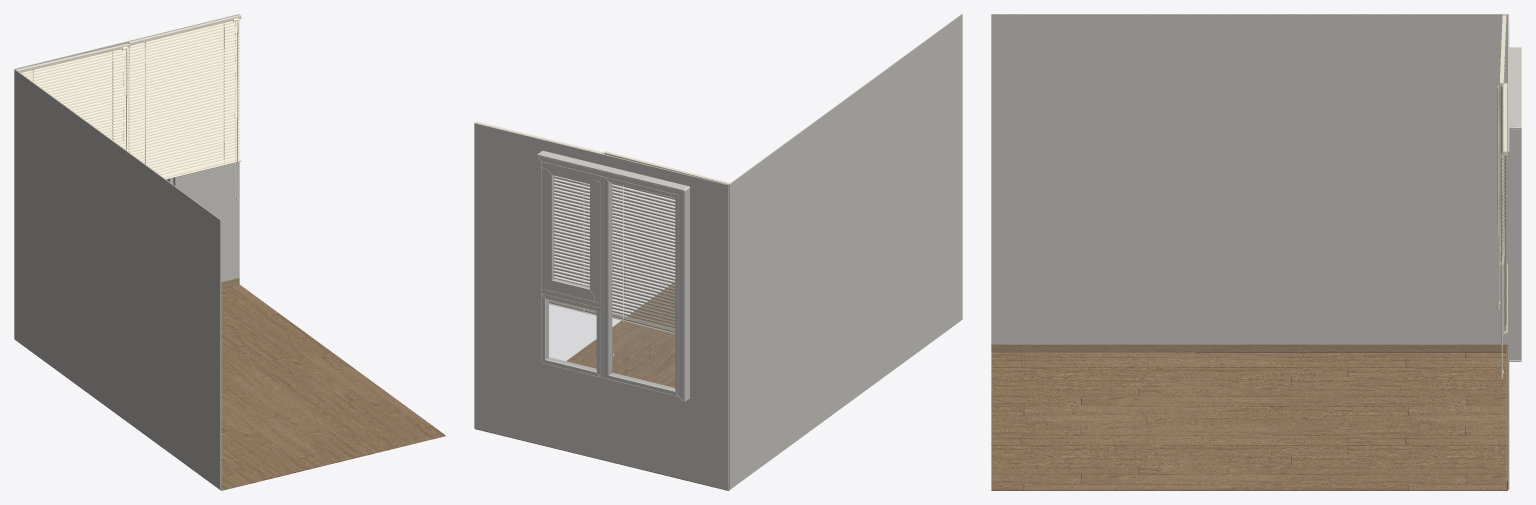
Rendered from background.gltf.
3 renders of one model, left to right at view 1: azimuth 30°, elevation 25°; view 2: azimuth 150°, elevation 25°; view 3: azimuth 270°, elevation 25°, orthographic. The views are drawn at different scales.
Visible parts, largest first — view 1: wall003, curtain001, curtain; view 2: wall003, windowglass, curtain, curtain001; view 3: wall003, curtain, curtain001.
Part boxes in pixels (<box>): wall003: <box>14,14,445,490</box>; curtain001: <box>128,14,241,200</box>; curtain: <box>16,43,130,151</box>; wall003: <box>474,14,962,490</box>; windowglass: <box>546,175,674,390</box>; curtain: <box>604,151,730,357</box>; curtain001: <box>475,121,603,315</box>; wall003: <box>991,14,1521,490</box>; curtain: <box>1497,14,1506,309</box>; curtain001: <box>1501,83,1507,377</box>.
Bounding box in the file's own units: 2.43 × 2.79 × 3.95.
3 materials, 1 textured.
